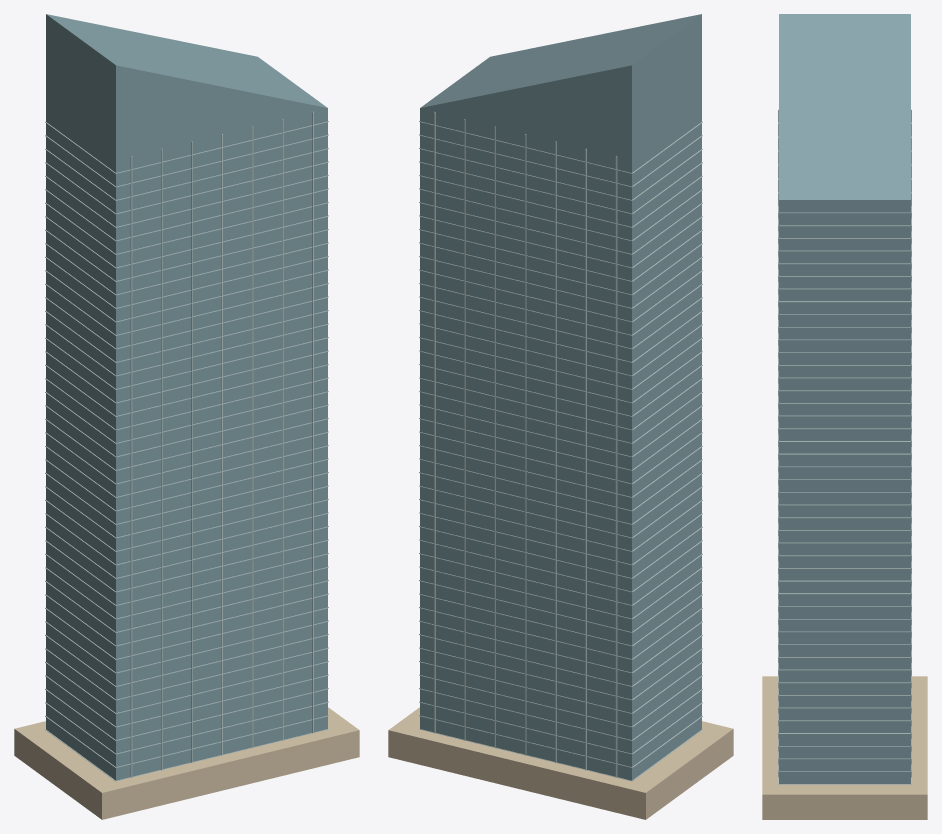
Rendered from bfc-north.glb.
3 views of the same model, side by side, from view 1: azimuth 30°, elevation 25°; view 2: azimuth 150°, elevation 25°; view 3: azimuth 270°, elevation 25° (orthographic). The views are drawn at different scales.
Visible parts, largest first — view 1: bfc-north; view 2: bfc-north; view 3: bfc-north.
Part boxes in pixels (left/top/right/bottom): bfc-north: left=14, top=14, right=359, bottom=819; bfc-north: left=388, top=14, right=733, bottom=819; bfc-north: left=762, top=14, right=927, bottom=819.
Size of the model in its own units: 30.84 by 85 by 18.2.
